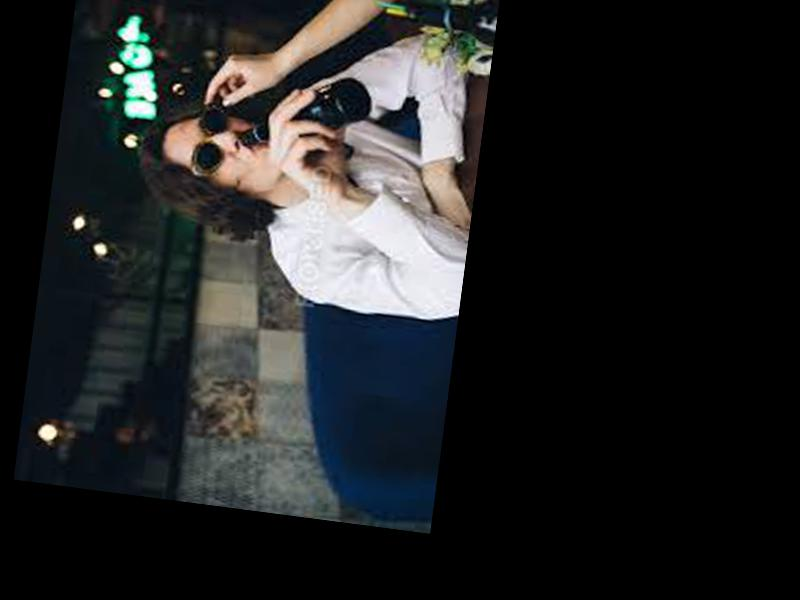Beer: (240, 62, 378, 161)
